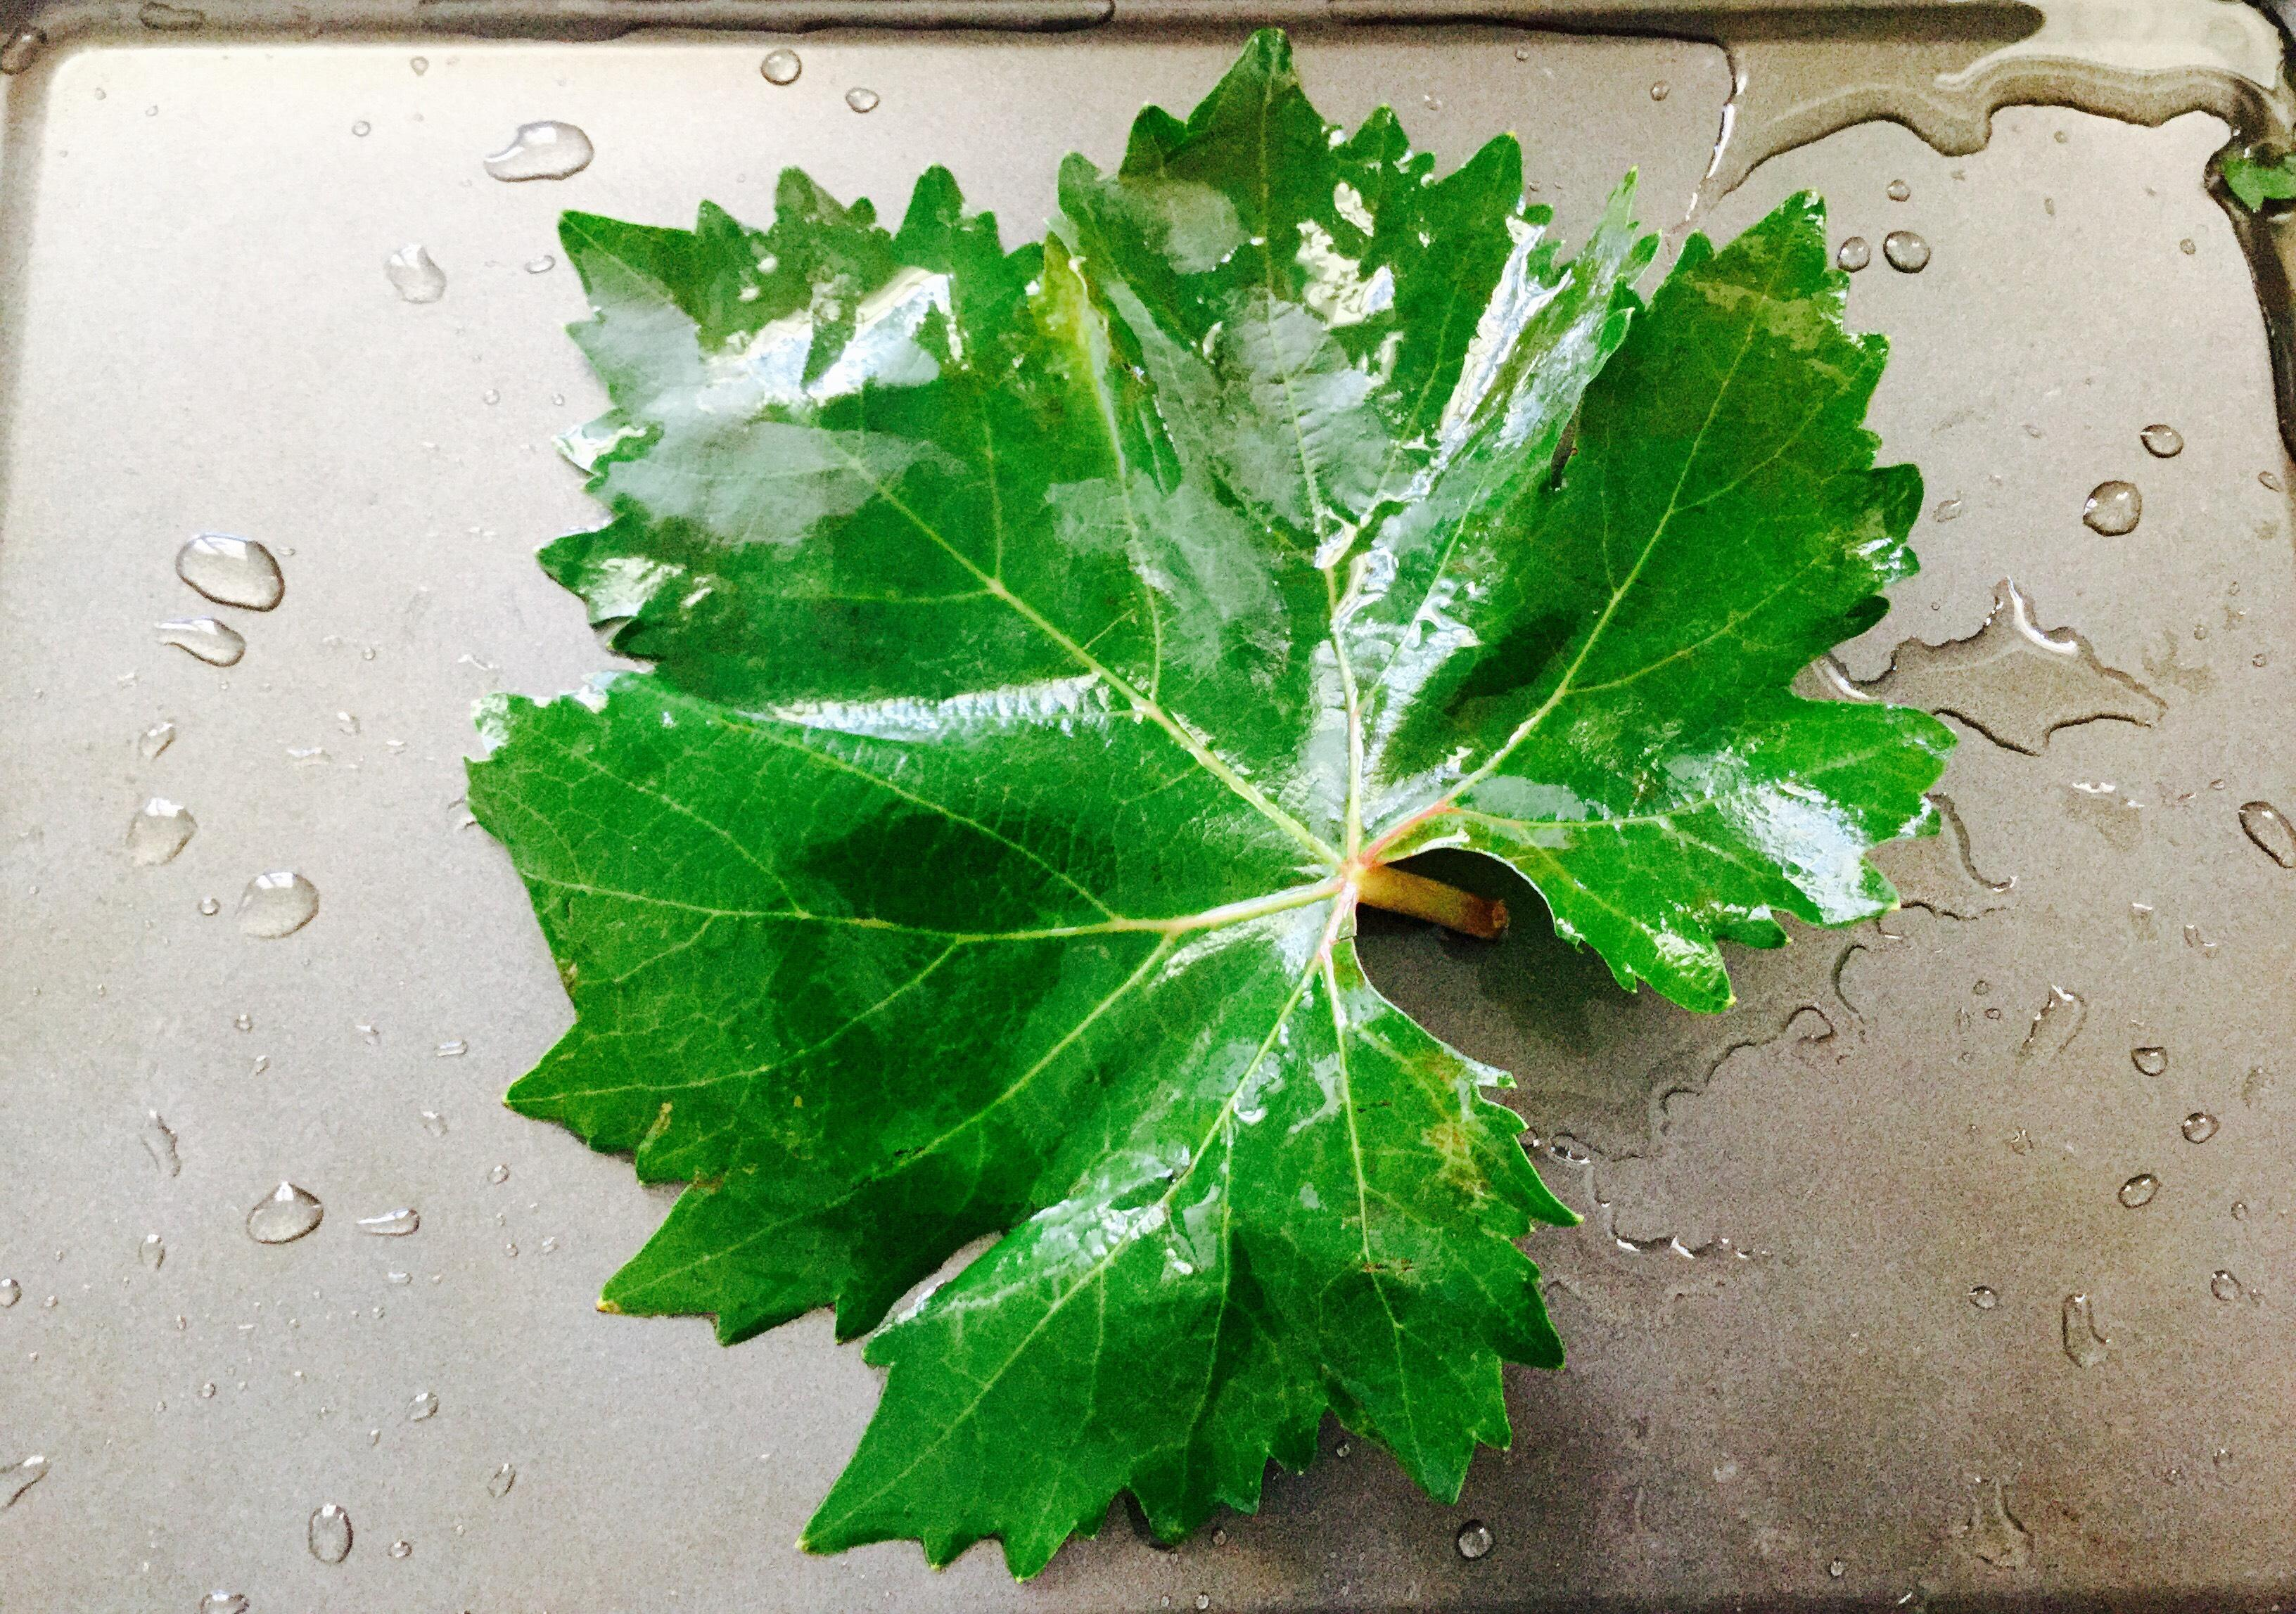grape leaf black rot: (393, 37, 1974, 1577)
